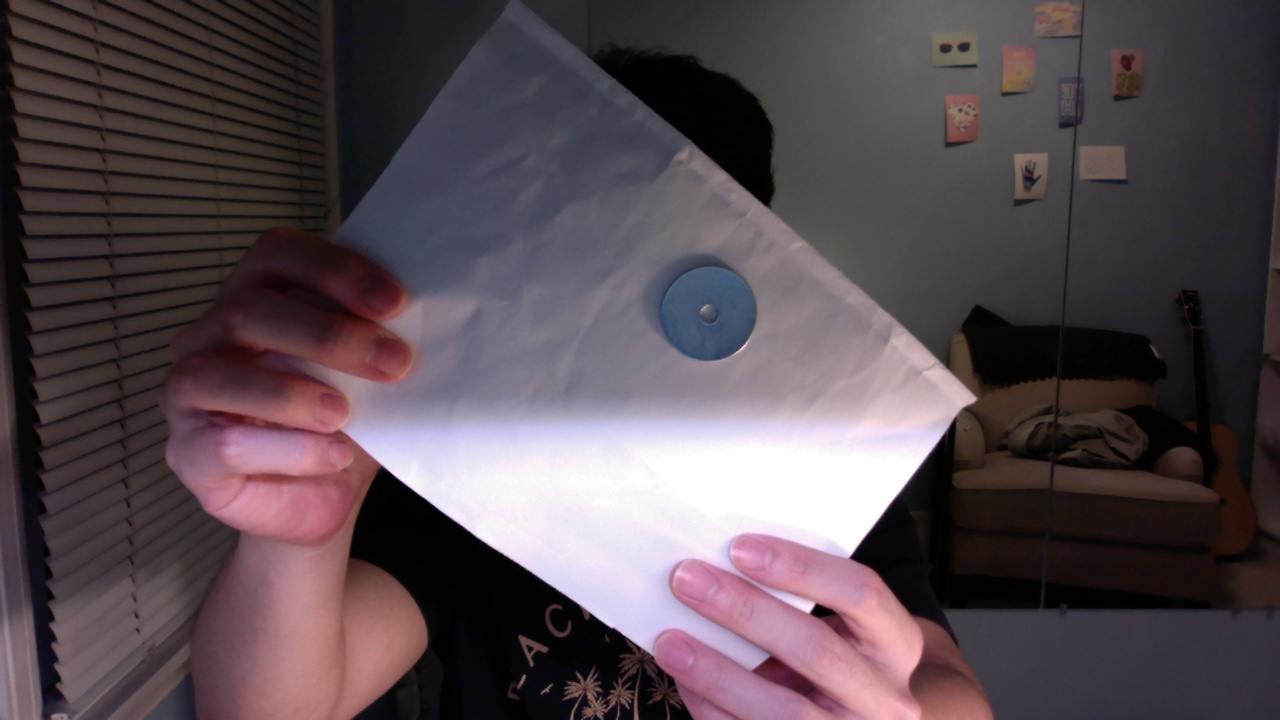NonDetectiveWashers: (658, 266, 759, 361)
